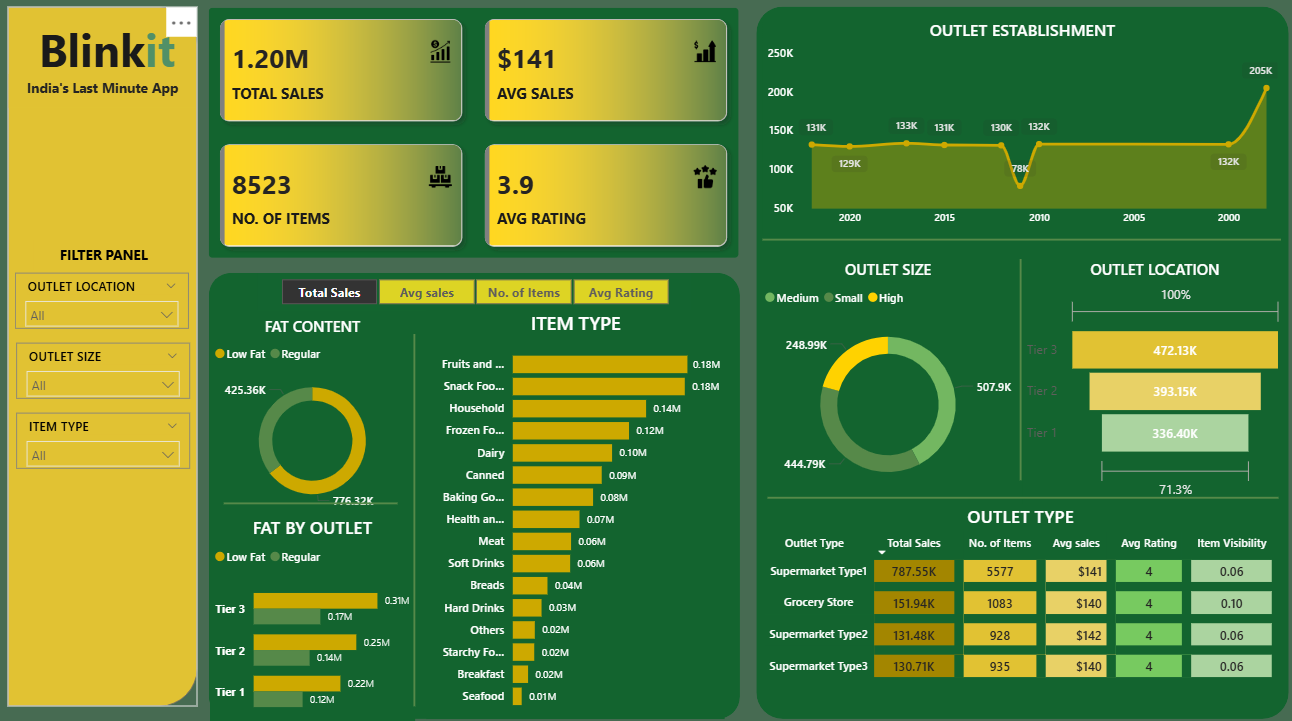

The page's visual inventory and layout, read from the dashboard file:
{"tool":"powerbi","page":{"name":"Blinkit Analysis","canvas":[1400,800],"ordinal":0},"visuals":[{"type":"shape","box":[18.8,24.1,203.8,750.7],"z":0},{"type":"textbox","box":[28.2,37.5,194.4,95.2],"z":1000},{"type":"textbox","box":[20.1,96.5,201.1,36.2],"z":2000},{"type":"cardVisual","fields":{"Data":["BlinkIT Grocery Data.Total Sales","BlinkIT Grocery Data.Avg sales","BlinkIT Grocery Data.No. of Items","BlinkIT Grocery Data.Avg Rating"]},"box":[234.6,25.5,569.7,269.4],"z":3000},{"type":"shape","box":[234.6,309.7,569.7,478.6],"z":4000},{"type":"donutChart","title":"FAT CONTENT","fields":{"Category":["BlinkIT Grocery Data.Item Fat Content"],"Y":["BlinkIT Grocery Data.Total Sales"]},"box":[235.9,355.2,219.8,219.8],"z":5000},{"type":"slicer","fields":{"Values":["Metrics.Metrics"]},"box":[286.9,309.7,465.1,40.2],"z":5001},{"type":"clusteredBarChart","title":"FAT BY OUTLET","fields":{"Y":["BlinkIT Grocery Data.Total Sales"],"Category":["BlinkIT Grocery Data.Outlet Location Type"],"Series":["BlinkIT Grocery Data.Item Fat Content"]},"box":[235.9,569.7,219.8,230.6],"z":5003},{"type":"shape","box":[868.6,0,477.2,60.3],"z":5004},{"type":"shape","box":[361.9,375.3,186.3,399.5],"z":5006},{"type":"barChart","title":"ITEM TYPE","fields":{"Category":["BlinkIT Grocery Data.Item Type"],"Y":["BlinkIT Grocery Data.Total Sales"]},"box":[467.8,349.9,320.4,438.3],"z":5007},{"type":"shape","box":[821.7,24.1,571,764.1],"z":5008},{"type":"lineChart","title":"OUTLET ESTABLISHMENT","fields":{"Y":["BlinkIT Grocery Data.Total Sales"],"Category":["BlinkIT Grocery Data.Outlet Establishment Year"]},"box":[828.4,37.5,557.6,230.6],"z":5009},{"type":"shape","box":[250.7,526.8,186.3,60.3],"z":5010},{"type":"shape","box":[828.4,253.4,556.3,41.6],"z":5011},{"type":"donutChart","title":"OUTLET SIZE","fields":{"Y":["BlinkIT Grocery Data.Total Sales"],"Category":["BlinkIT Grocery Data.Outlet Size"]},"box":[825.7,294.9,274.8,262.7],"z":5012},{"type":"shape","box":[1012.1,294.9,186.3,237.3],"z":5013},{"type":"funnel","title":"OUTLET LOCATION","fields":{"Y":["Sum(BlinkIT Grocery Data.Sales)"],"Category":["BlinkIT Grocery Data.Outlet Location Type"]},"box":[1107.2,294.9,284.2,262.7],"z":5014},{"type":"shape","box":[833.8,532.2,548.3,37.5],"z":5015},{"type":"pivotTable","title":"OUTLET TYPE","fields":{"Rows":["BlinkIT Grocery Data.Outlet Type"],"Values":["BlinkIT Grocery Data.Total Sales","BlinkIT Grocery Data.No. of Items","BlinkIT Grocery Data.Avg sales","BlinkIT Grocery Data.Avg Rating","Avg(BlinkIT Grocery Data.Item Visibility)"]},"box":[825.7,557.6,559,217.2],"z":5016},{"type":"slicer","fields":{"Values":["BlinkIT Grocery Data.Outlet Location Type"]},"box":[26.8,309.7,186.3,60.3],"z":5017},{"type":"slicer","fields":{"Values":["BlinkIT Grocery Data.Outlet Size"]},"box":[28.2,384.7,186.3,60.3],"z":5018},{"type":"slicer","fields":{"Values":["BlinkIT Grocery Data.Item Type"]},"box":[28.2,459.8,186.3,60.3],"z":5019},{"type":"textbox","box":[46.9,274.8,150.1,32.2],"z":5020}]}

Visuals, with their boxes in screenshot pixels (x1, y1, x2, y2), scaled from the page's 1400x800 canvas onto the 1292x721 screenshot:
shape: bbox(17, 22, 205, 698)
textbox: bbox(26, 34, 205, 120)
textbox: bbox(19, 87, 204, 120)
cardVisual - BlinkIT Grocery Data.Total Sales x BlinkIT Grocery Data.Avg sales: bbox(217, 23, 742, 266)
shape: bbox(217, 279, 742, 710)
"FAT CONTENT" donutChart: bbox(218, 320, 421, 518)
slicer - Metrics.Metrics: bbox(265, 279, 694, 315)
"FAT BY OUTLET" clusteredBarChart: bbox(218, 513, 421, 720)
shape: bbox(802, 0, 1242, 54)
shape: bbox(334, 338, 506, 698)
"ITEM TYPE" barChart: bbox(432, 315, 727, 710)
shape: bbox(758, 22, 1285, 710)
"OUTLET ESTABLISHMENT" lineChart: bbox(764, 34, 1279, 242)
shape: bbox(231, 475, 403, 529)
shape: bbox(764, 228, 1278, 266)
"OUTLET SIZE" donutChart: bbox(762, 266, 1016, 503)
shape: bbox(934, 266, 1106, 480)
"OUTLET LOCATION" funnel: bbox(1022, 266, 1284, 503)
shape: bbox(769, 480, 1275, 513)
"OUTLET TYPE" pivotTable: bbox(762, 503, 1278, 698)
slicer - BlinkIT Grocery Data.Outlet Location Type: bbox(25, 279, 197, 333)
slicer - BlinkIT Grocery Data.Outlet Size: bbox(26, 347, 198, 401)
slicer - BlinkIT Grocery Data.Item Type: bbox(26, 414, 198, 469)
textbox: bbox(43, 248, 182, 277)
